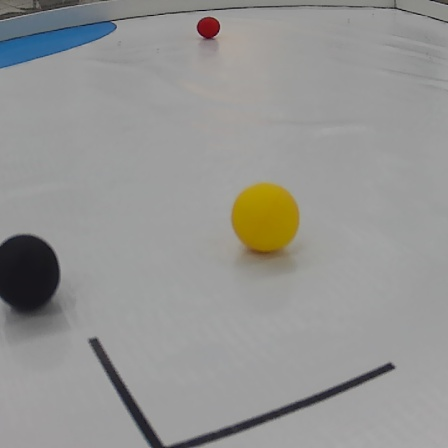black: (0, 230, 61, 312)
blue_base: (0, 23, 118, 64)
red: (189, 15, 226, 40)
yellow: (229, 181, 301, 253)
